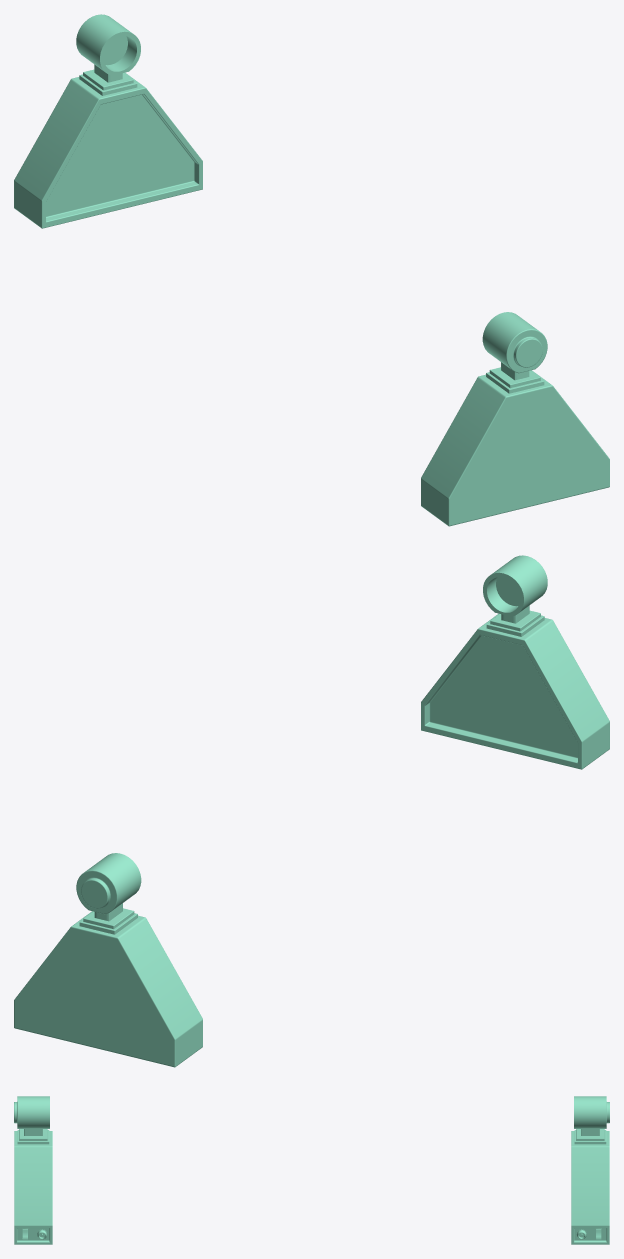
File: Solar_Battery_Holder02_01.fbx
3 renders of one model, top to bottom at view 1: azimuth 30°, elevation 25°; view 2: azimuth 150°, elevation 25°; view 3: azimuth 270°, elevation 25°, orthographic. The views are drawn at different scales.
Parts seen in each view (by area): view 1: SM_Solar_Battery_Holder02_01; view 2: SM_Solar_Battery_Holder02_01; view 3: SM_Solar_Battery_Holder02_01.
Part boxes in pixels (bbox=[...]): SM_Solar_Battery_Holder02_01: bbox=[14, 14, 609, 526]; SM_Solar_Battery_Holder02_01: bbox=[14, 555, 609, 1067]; SM_Solar_Battery_Holder02_01: bbox=[14, 1096, 609, 1244].
Bounding box in the file's own units: 0.806 × 0.8274 × 3.72.
